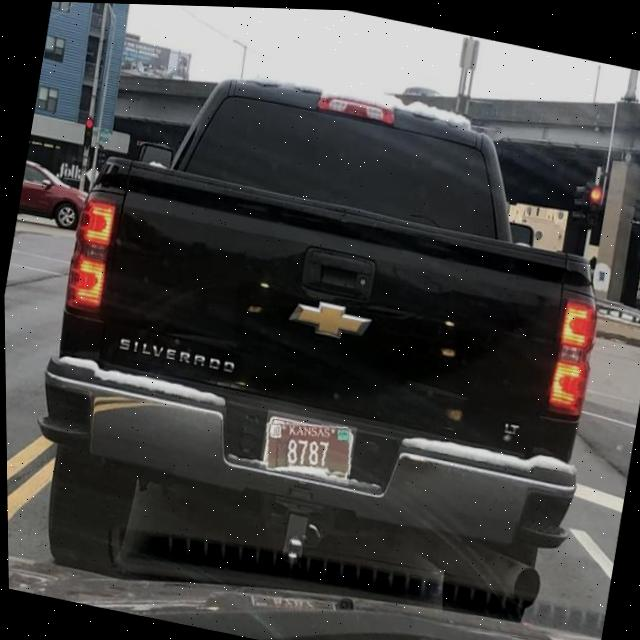LicensePlate: (263, 418, 350, 473)
